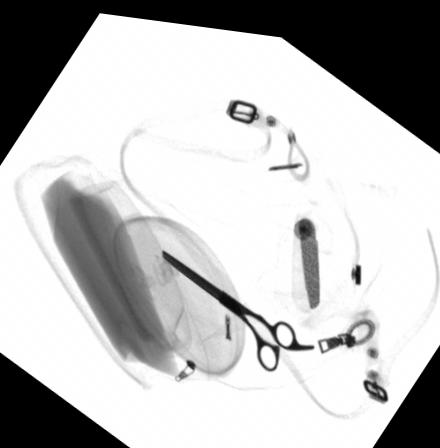Knife: (298, 208, 320, 301)
Scissors: (161, 244, 315, 363)
